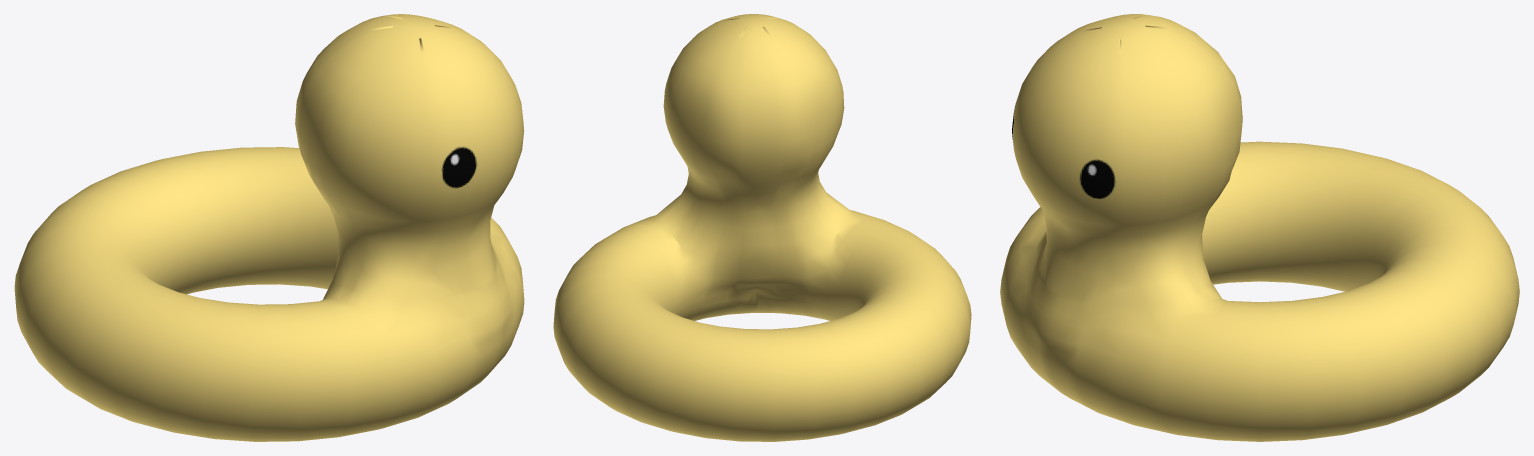
Rendered from duckbody.gltf.
3 renders of one model, left to right at view 1: azimuth 30°, elevation 25°; view 2: azimuth 150°, elevation 25°; view 3: azimuth 270°, elevation 25°, orthographic. The views are drawn at different scales.
Visible parts, largest first — view 1: duck_body; view 2: duck_body; view 3: duck_body.
Part boxes in pixels (x1,y1,x2,y2): duck_body: (14, 14, 524, 441); duck_body: (553, 14, 971, 441); duck_body: (1000, 14, 1519, 441).
Size of the model in its own units: 24 by 18.72 by 24.
Materials: 1 (1 with a texture image).
